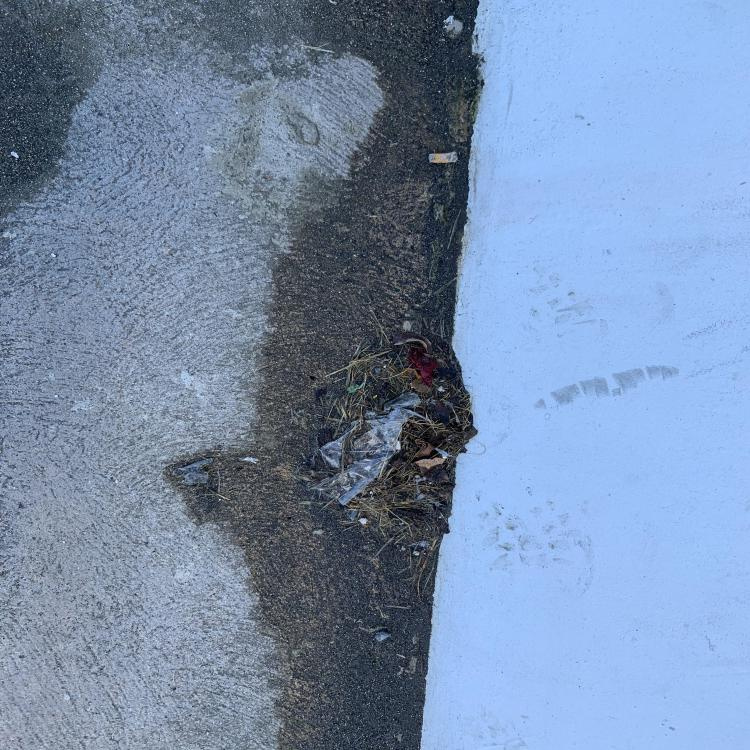Cigarette: (428, 152, 458, 162)
Plastic film: (309, 393, 428, 505)
Unlabeled litter: (406, 349, 438, 387), (396, 440, 400, 450)
